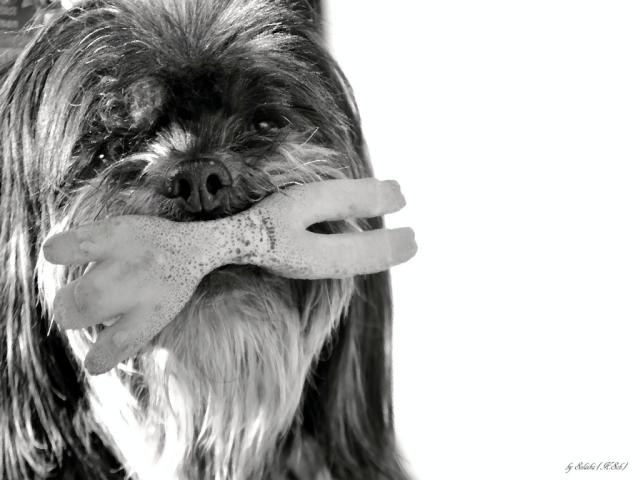Dog: (0, 0, 417, 480)
